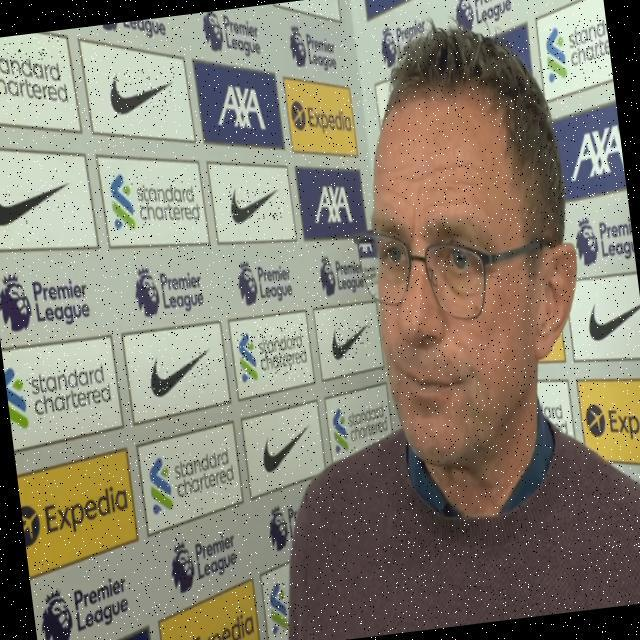Nike: (0, 163, 75, 227), (108, 67, 179, 118), (146, 348, 213, 400), (259, 425, 314, 477), (227, 181, 283, 225), (329, 320, 375, 361)
Standard Chartered: (4, 354, 114, 430), (145, 446, 238, 517), (107, 165, 201, 232), (0, 36, 68, 114), (541, 16, 613, 84), (235, 323, 309, 383), (331, 401, 391, 455), (266, 580, 290, 634)
